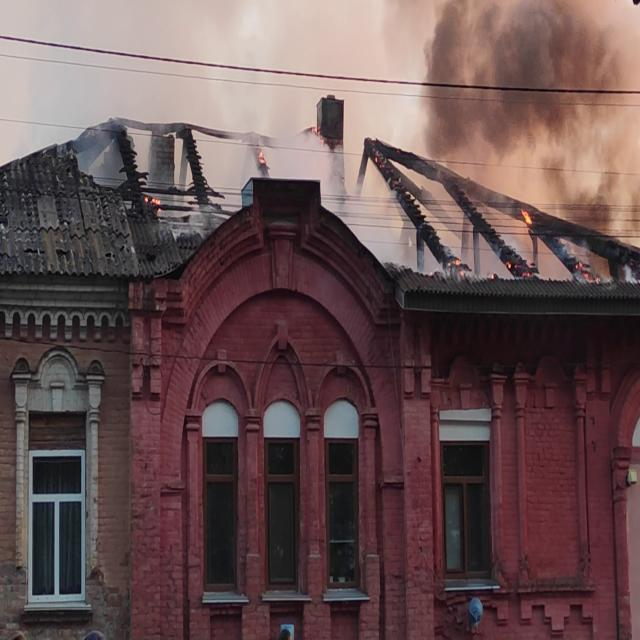fire: (499, 207, 555, 285), (564, 247, 608, 287)
smoke: (425, 1, 618, 159)
